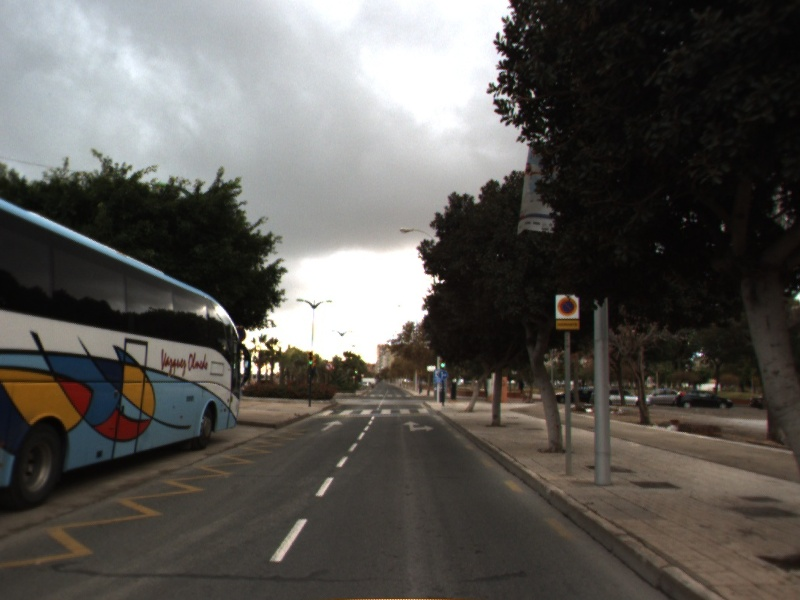STRAIGHT: (318, 418, 346, 433)
STRAIGHT_RIGHT: (401, 419, 437, 434)
